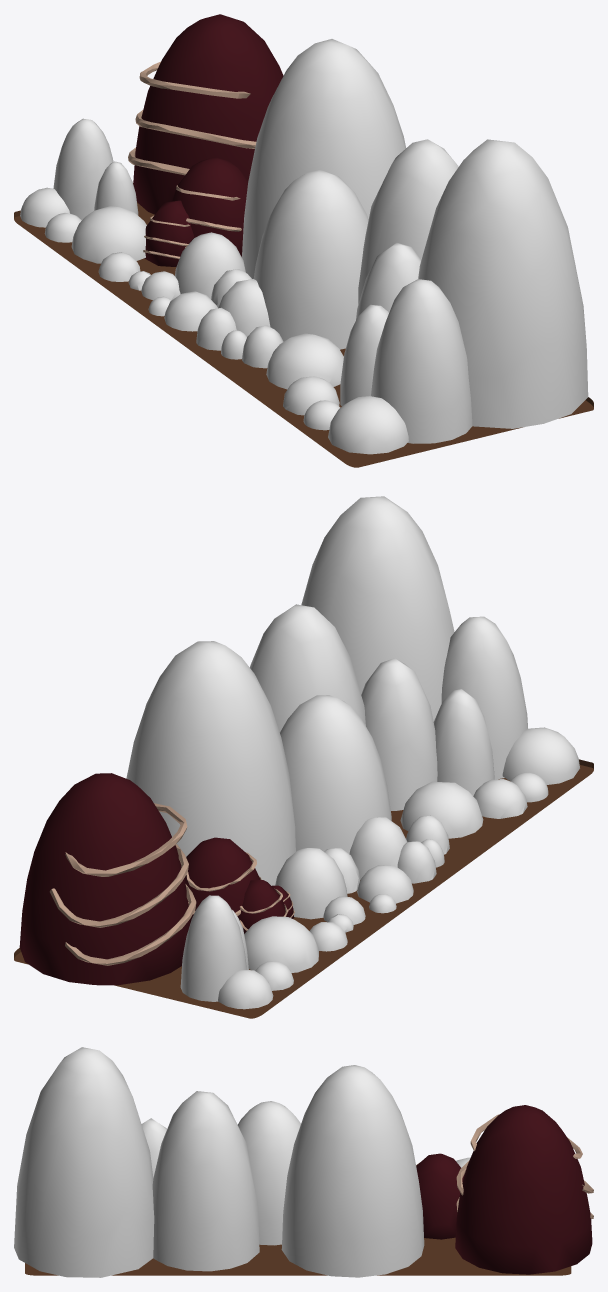
The model's file is NewLevel1.fbx.
3 renders of one model, top to bottom at view 1: azimuth 30°, elevation 25°; view 2: azimuth 150°, elevation 25°; view 3: azimuth 270°, elevation 25°, orthographic. The views are drawn at different scales.
Visible parts, largest first — view 1: DarkBrowns.001, PinkLines.001, WithRings.020, whiteLines.001, LightBrowns.001, Plane.002, LightBrowns.002, WithRings.024, Combat.001, Combat2.001, Combat2.002, whiteLines.002 (+15 smaller); view 2: DarkBrowns.001, PinkLines.001, WithRings.020, whiteLines.001, LightBrowns.001, Plane.002, LightBrowns.002, WithRings.024, whiteLines.002, Combat2.001, Combat.001, Combat2.002 (+15 smaller); view 3: DarkBrowns.001, PinkLines.001, WithRings.020, whiteLines.001, Plane.002, WithRings.024, WithRings.018.
Part boxes in pixels (bbox=[...]): DarkBrowns.001: bbox=[356, 139, 588, 428]; PinkLines.001: bbox=[242, 39, 405, 278]; WithRings.020: bbox=[133, 14, 283, 214]; whiteLines.001: bbox=[253, 169, 368, 349]; LightBrowns.001: bbox=[340, 279, 472, 443]; Plane.002: bbox=[14, 183, 593, 467]; LightBrowns.002: bbox=[53, 118, 138, 219]; WithRings.024: bbox=[172, 157, 248, 256]; Combat.001: bbox=[328, 396, 408, 454]; Combat2.001: bbox=[71, 206, 146, 263]; Combat2.002: bbox=[266, 333, 343, 389]; whiteLines.002: bbox=[175, 232, 245, 298]; DarkBrowns.001: bbox=[250, 496, 454, 810]; PinkLines.001: bbox=[126, 641, 295, 885]; WithRings.020: bbox=[19, 773, 190, 985]; whiteLines.001: bbox=[280, 695, 391, 853]; LightBrowns.001: bbox=[433, 616, 527, 795]; Plane.002: bbox=[14, 759, 593, 1018]; LightBrowns.002: bbox=[180, 895, 248, 1001]; WithRings.024: bbox=[184, 837, 260, 922]; whiteLines.002: bbox=[275, 848, 347, 919]; Combat2.001: bbox=[244, 916, 318, 972]; Combat.001: bbox=[502, 727, 579, 784]; Combat2.002: bbox=[400, 781, 483, 838]; DarkBrowns.001: bbox=[14, 1047, 259, 1277]; PinkLines.001: bbox=[281, 1065, 424, 1277]; WithRings.020: bbox=[455, 1105, 592, 1274]; whiteLines.001: bbox=[238, 1101, 300, 1245]; Plane.002: bbox=[25, 1237, 571, 1275]; WithRings.024: bbox=[416, 1153, 464, 1239]; WithRings.018: bbox=[470, 1114, 582, 1158].
Size of the model in its own units: 32049 by 29646 by 76982.
